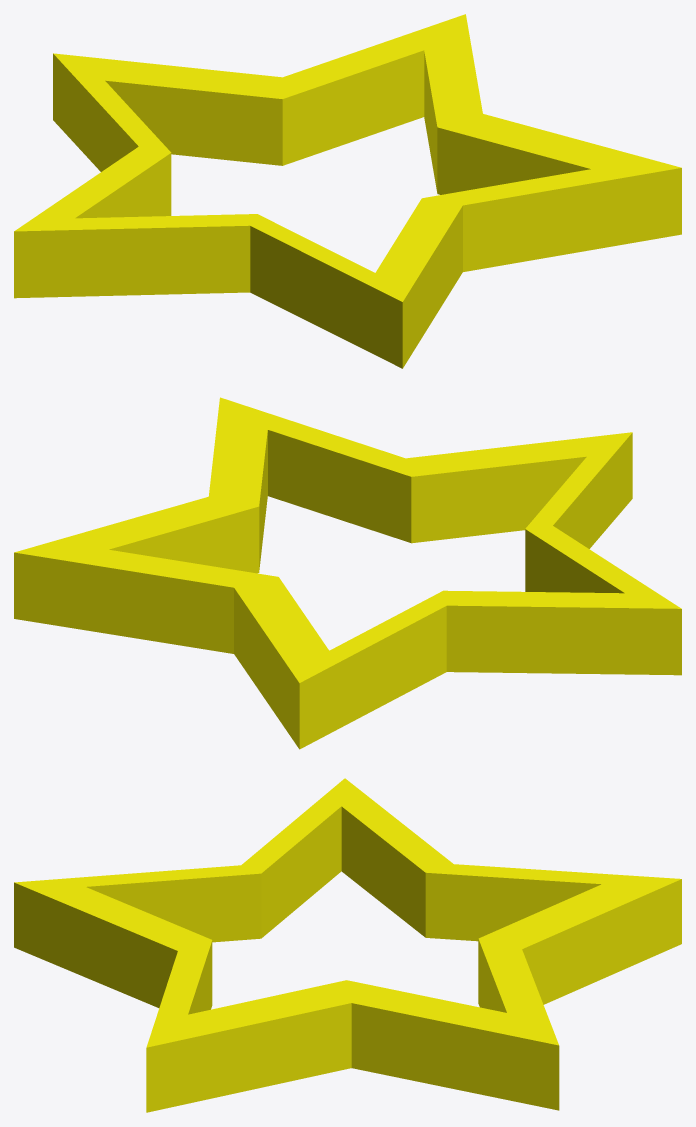
The model's file is GoalStar.obj.
The picture shows the model from 3 angles, top to bottom: view 1: azimuth 30°, elevation 25°; view 2: azimuth 150°, elevation 25°; view 3: azimuth 270°, elevation 25°; orthographic projection. The views are drawn at different scales.
Visible parts, largest first — view 1: 円.001; view 2: 円.001; view 3: 円.001.
Boxes of the visible parts, bbox=[...] form: 円.001: bbox=[14, 14, 681, 368]; 円.001: bbox=[14, 397, 681, 749]; 円.001: bbox=[14, 778, 681, 1112].
Bounding box in the file's own units: 3.53 × 0.397 × 3.69.
1 material, 1 textured.
